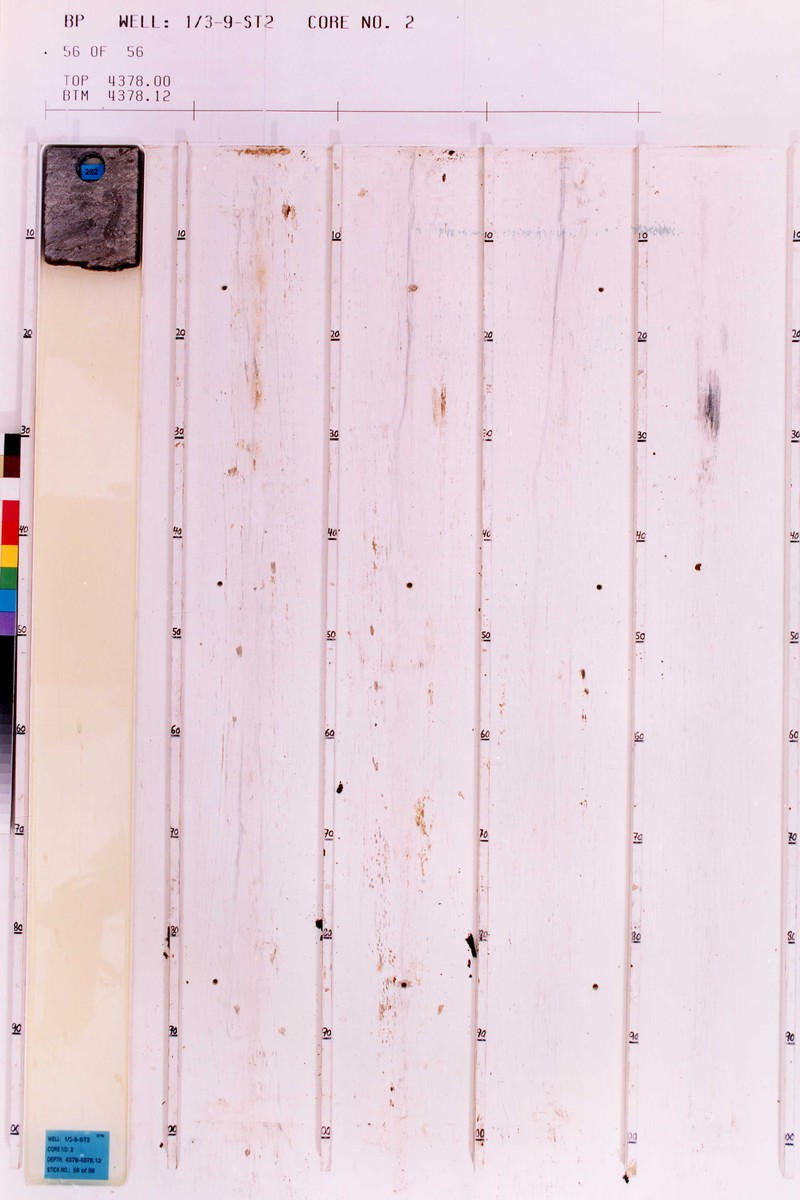core: (36, 143, 145, 272)
